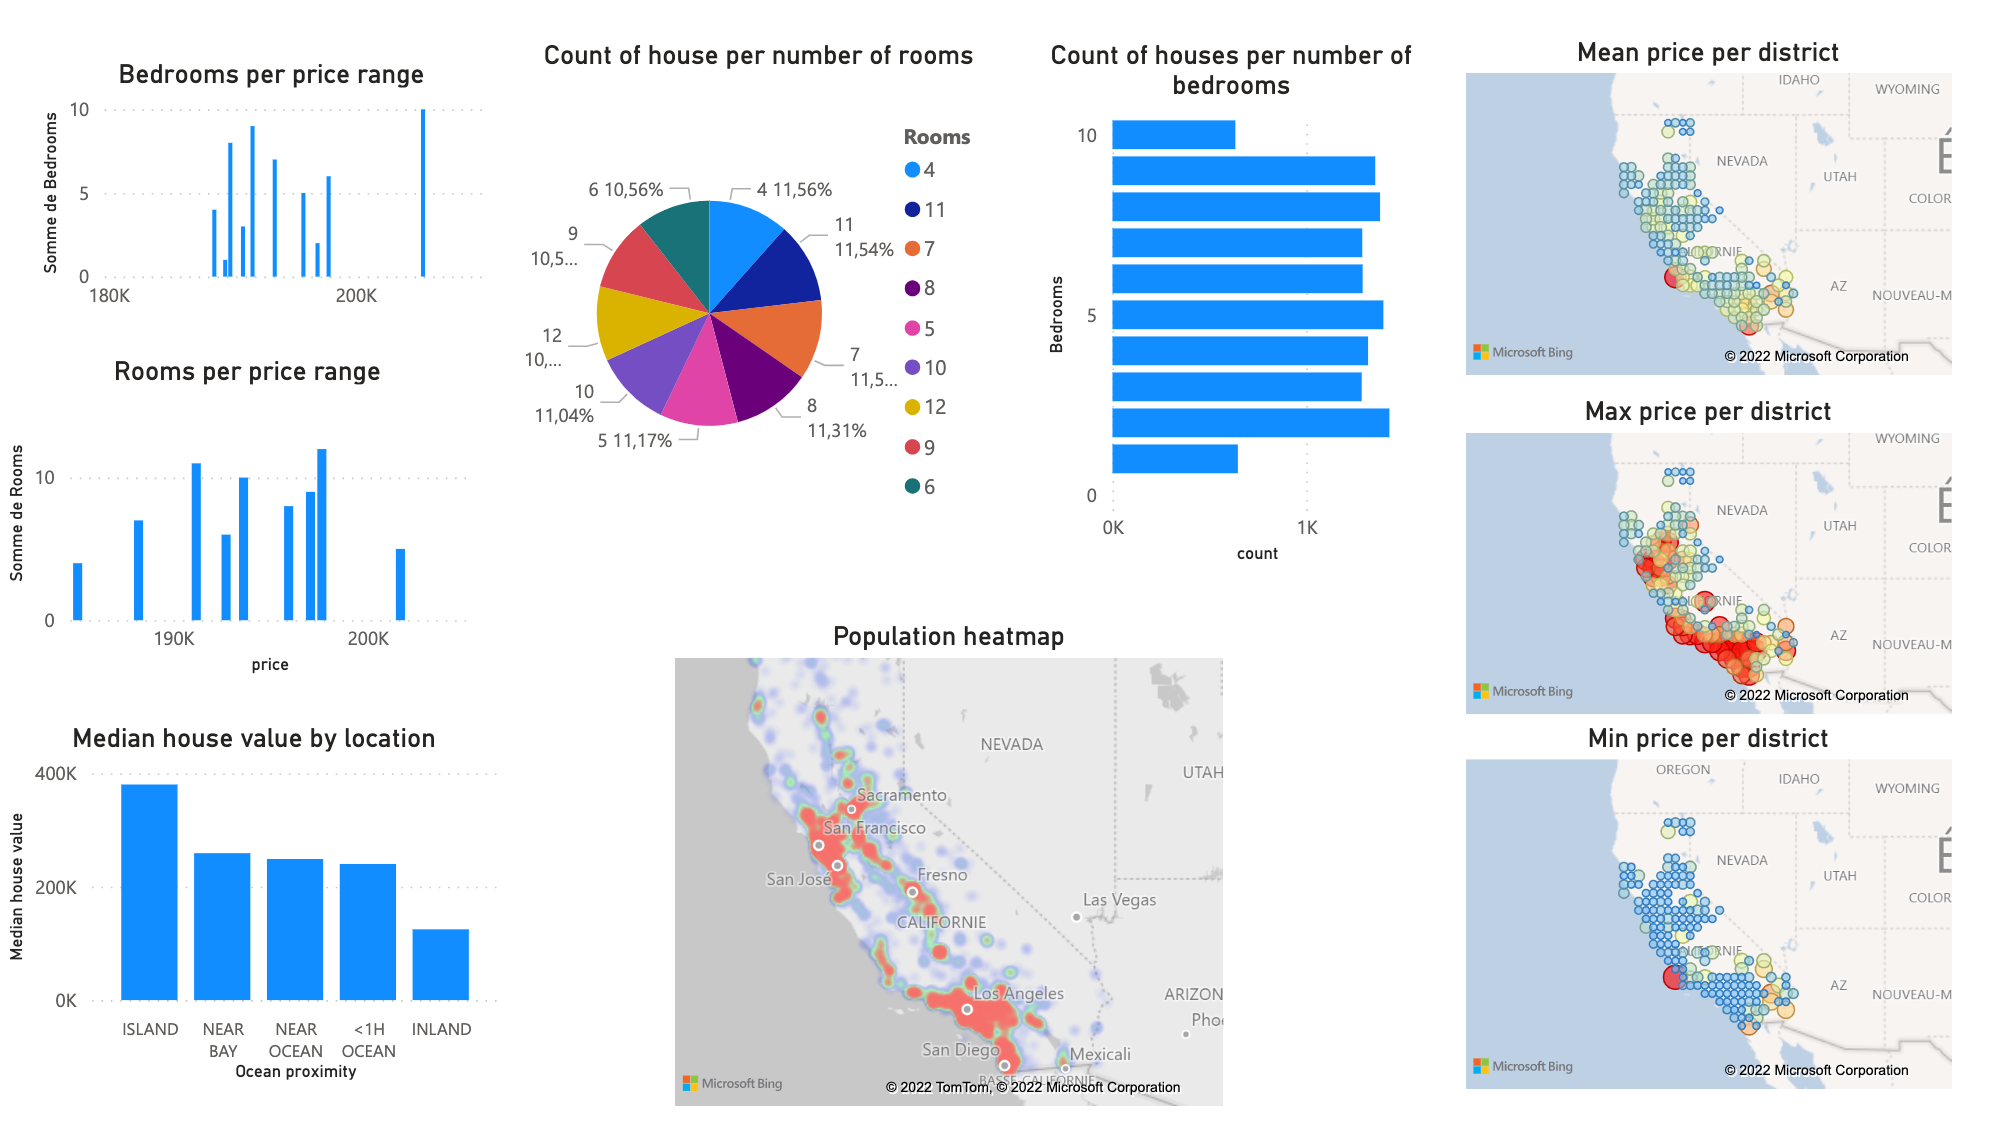

The dashboard page shown, as its layout file describes it:
{"tool":"powerbi","page":{"name":"Page 1","canvas":[1280,720],"ordinal":0},"visuals":[{"type":"clusteredColumnChart","title":"Bedrooms per price range","fields":{"Y":["Sum(bedrooms_per_price_range.Bedrooms)"],"Category":["bedrooms_per_price_range.price"]},"box":[21.6,32.1,303.6,170.1],"z":0},{"type":"map","title":"Max price per district","fields":{"Size":["Sum(max_price_per_district.price)"],"Y":["max_price_per_district.district_plt_lat"],"X":["max_price_per_district.district_plt_lon"]},"box":[933.2,248,320.6,209.4],"z":1},{"type":"map","title":"Mean price per district","fields":{"Size":["Sum(mean_price_per_district.price)"],"Y":["mean_price_per_district.district_plt_lat"],"X":["mean_price_per_district.district_plt_lon"]},"box":[933.2,17.7,320.6,222.5],"z":2},{"type":"map","title":"Min price per district","fields":{"Size":["Sum(min_price_per_district.price)"],"Y":["min_price_per_district.district_plt_lat"],"X":["min_price_per_district.district_plt_lon"]},"box":[933.2,457.4,320.6,240.2],"z":3},{"type":"clusteredBarChart","title":"Count of houses per number of bedrooms","fields":{"Category":["most_house_per_bedrooms.Bedrooms"],"Y":["Sum(most_house_per_bedrooms.count)"]},"box":[665.5,20.3,244.1,339.6],"z":4},{"type":"clusteredColumnChart","title":"Rooms per price range","fields":{"Category":["rooms_per_price_range.price"],"Y":["Sum(rooms_per_price_range.Rooms)"]},"box":[0,221.8,316.7,208.8],"z":6},{"type":"clusteredColumnChart","title":"Median house value by location","fields":{"Category":["median_house_value_per_location.ocean_proximity"],"Y":["Sum(median_house_value_per_location.median_house_value)"]},"box":[0,457.4,325.2,234.3],"z":7},{"type":"pieChart","title":"Count of house per number of rooms","fields":{"Y":["Sum(most_house_per_room.count)"],"Category":["most_house_per_room.Rooms"]},"box":[325.2,20.3,321.3,332.4],"z":8},{"type":"map","title":"Population heatmap","fields":{"Y":["real_estate_final.latitude"],"X":["real_estate_final.longitude"],"Size":["Sum(real_estate_final.population)"]},"box":[427.3,392,360.6,316.1],"z":9}]}

Visuals, with their boxes in screenshot pixels (x1, y1, x2, y2), scaled from the page's 1280x720 canvas onto the 2000x1140 screenshot:
"Bedrooms per price range" clusteredColumnChart: [x1=34, y1=51, x2=508, y2=320]
"Max price per district" map: [x1=1458, y1=393, x2=1959, y2=724]
"Mean price per district" map: [x1=1458, y1=28, x2=1959, y2=380]
"Min price per district" map: [x1=1458, y1=724, x2=1959, y2=1105]
"Count of houses per number of bedrooms" clusteredBarChart: [x1=1040, y1=32, x2=1421, y2=570]
"Rooms per price range" clusteredColumnChart: [x1=0, y1=351, x2=495, y2=682]
"Median house value by location" clusteredColumnChart: [x1=0, y1=724, x2=508, y2=1095]
"Count of house per number of rooms" pieChart: [x1=508, y1=32, x2=1010, y2=558]
"Population heatmap" map: [x1=668, y1=621, x2=1231, y2=1121]
